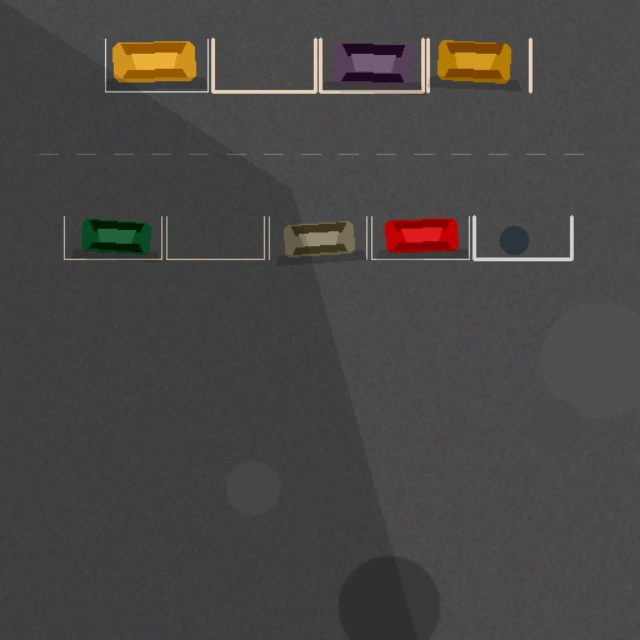space-empty: (212, 39, 315, 91), (166, 216, 264, 259), (474, 216, 571, 259)
space-occupied: (105, 39, 208, 91), (320, 39, 422, 91), (428, 39, 530, 91), (371, 216, 469, 259), (64, 216, 161, 259), (269, 216, 366, 259)
